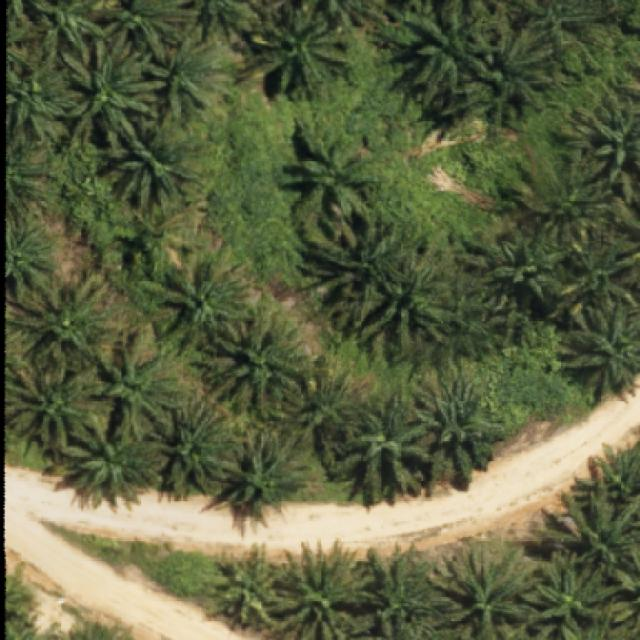Kelapa_Sawit: (295, 199, 414, 326), (60, 28, 168, 150), (149, 236, 253, 361), (276, 115, 384, 234), (208, 303, 312, 425), (500, 145, 618, 252), (399, 374, 507, 488), (86, 324, 185, 447), (5, 272, 124, 373), (336, 387, 435, 508), (234, 4, 357, 99), (353, 244, 452, 361), (391, 4, 502, 108), (54, 406, 169, 503), (514, 543, 628, 640), (459, 221, 573, 314), (462, 21, 561, 119), (100, 115, 200, 211), (136, 28, 232, 124), (205, 427, 312, 508), (157, 389, 234, 500), (201, 545, 296, 632), (289, 367, 374, 442)
